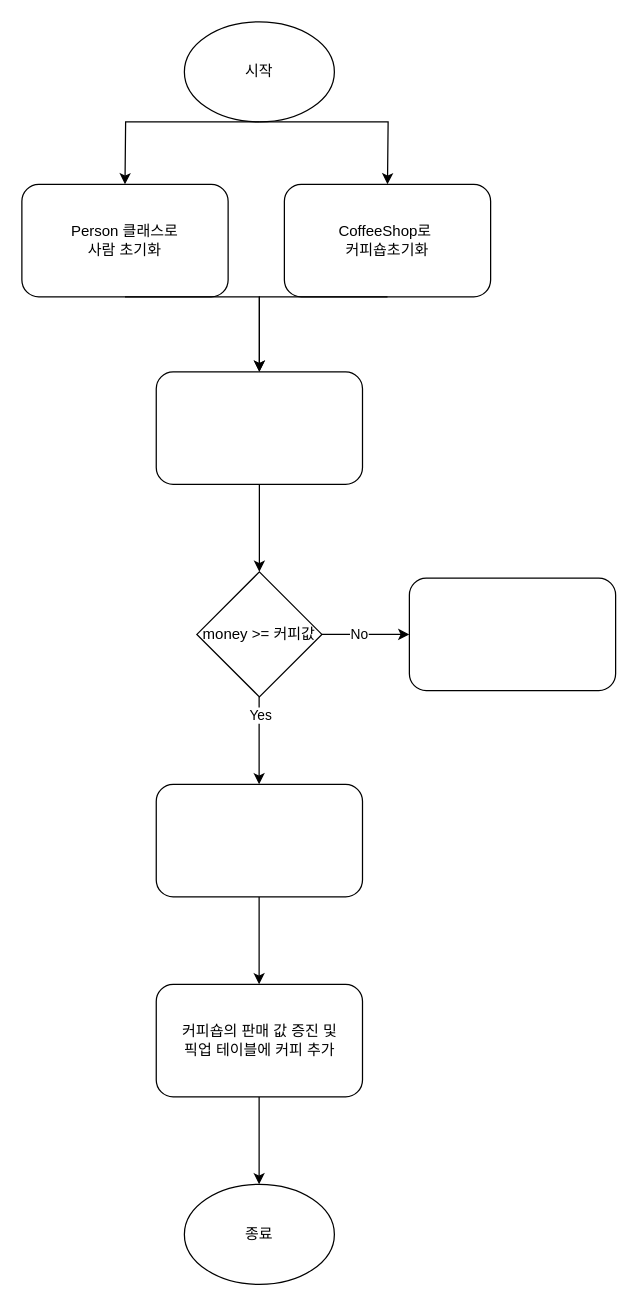
Some shapes in this 638 by 1306 pixel diagram are drawn without their labels. The shapes that lost their labels are listed below. From the top down, each one's centre as x and y in pixels, then its label:
At point 258,427: "buyCoffee 함수 실행".
At point 512,634: "구매 불가 출력".
At point 258,840: "남은 돈 출력 및 주문 시작".
